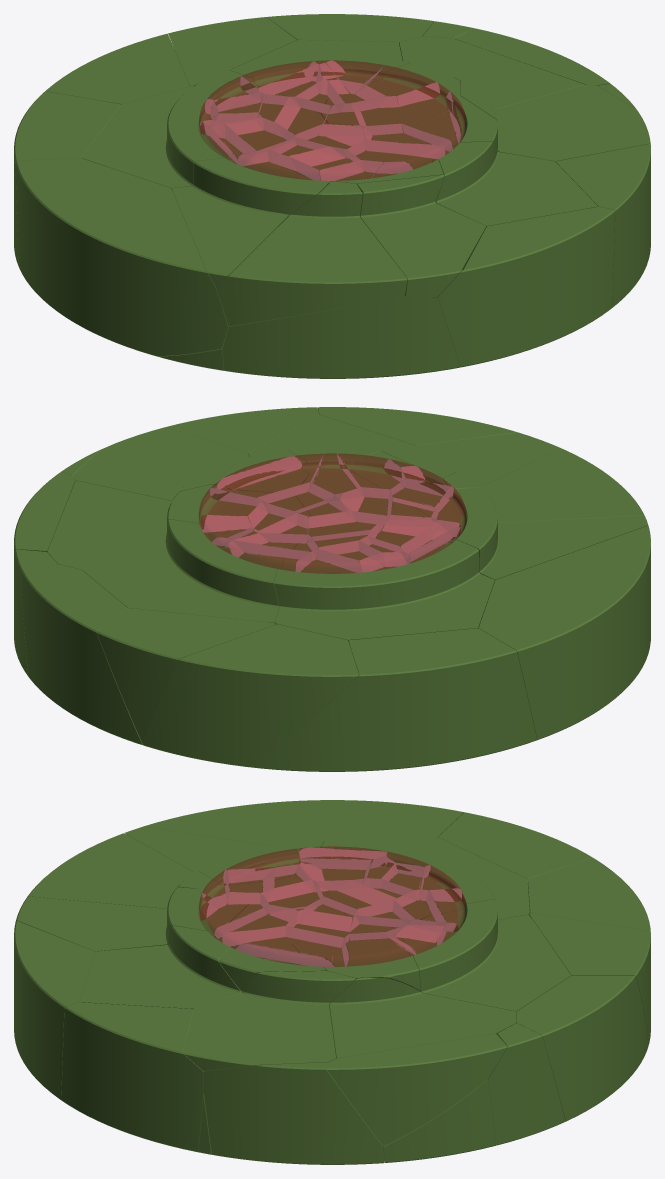
The model's file is MineFragments.gltf.
The picture shows the model from 3 angles, top to bottom: view 1: azimuth 30°, elevation 25°; view 2: azimuth 150°, elevation 25°; view 3: azimuth 270°, elevation 25°; orthographic projection.
Parts seen in each view (by area): view 1: Casing_cell.006, Casing_cell.003, Casing_cell.011, Casing_cell.017, Casing_cell.012, Casing_cell.023, Casing_cell.008, Casing_cell.028, Casing_cell.018, Casing_cell.007, Casing_cell, Casing_cell.022 (+37 smaller); view 2: Casing_cell.015, Casing_cell.006, Casing_cell.022, Casing_cell.012, Casing_cell.020, Casing_cell.010, Casing_cell.004, Casing_cell.023, Casing_cell.011, Casing_cell.028, Casing_cell, Casing_cell.008 (+36 smaller); view 3: Casing_cell.007, Casing_cell.024, Casing_cell.020, Casing_cell.028, Casing_cell.010, Casing_cell.025, Casing_cell.006, Casing_cell, Casing_cell.018, Casing_cell.003, Casing_cell.012, Casing_cell.011 (+38 smaller).
Boxes of the visible parts, left/top/right/bottom form: Casing_cell.006: left=15, top=158, right=228, bottom=355; Casing_cell.003: left=433, top=206, right=615, bottom=367; Casing_cell.011: left=215, top=181, right=407, bottom=326; Casing_cell.017: left=222, top=296, right=460, bottom=378; Casing_cell.012: left=82, top=70, right=327, bottom=190; Casing_cell.023: left=172, top=158, right=329, bottom=284; Casing_cell.008: left=357, top=174, right=486, bottom=296; Casing_cell.028: left=460, top=81, right=650, bottom=161; Casing_cell.018: left=433, top=141, right=597, bottom=226; Casing_cell.007: left=555, top=144, right=650, bottom=307; Casing_cell: left=399, top=36, right=584, bottom=109; Casing_cell.022: left=45, top=33, right=189, bottom=104; Casing_cell.015: left=250, top=628, right=536, bottom=771; Casing_cell.006: left=478, top=526, right=650, bottom=740; Casing_cell.022: left=143, top=624, right=358, bottom=767; Casing_cell.012: left=274, top=528, right=494, bottom=640; Casing_cell.020: left=20, top=564, right=142, bottom=745; Casing_cell.010: left=82, top=519, right=284, bottom=622; Casing_cell.004: left=97, top=608, right=276, bottom=743; Casing_cell.023: left=436, top=487, right=648, bottom=581; Casing_cell.011: left=443, top=448, right=644, bottom=522; Casing_cell.028: left=72, top=427, right=249, bottom=500; Casing_cell: left=47, top=480, right=179, bottom=570; Casing_cell.008: left=381, top=432, right=561, bottom=486; Casing_cell.007: left=61, top=1002, right=204, bottom=1152; Casing_cell.024: left=203, top=1062, right=384, bottom=1164; Casing_cell.020: left=516, top=975, right=648, bottom=1121; Casing_cell.028: left=183, top=971, right=355, bottom=1071; Casing_cell.010: left=402, top=899, right=571, bottom=1018; Casing_cell.025: left=326, top=1033, right=506, bottom=1146; Casing_cell.006: left=143, top=800, right=463, bottom=845; Casing_cell: left=329, top=977, right=516, bottom=1058; Casing_cell.018: left=80, top=925, right=241, bottom=1009; Casing_cell.003: left=14, top=920, right=94, bottom=1100; Casing_cell.012: left=316, top=837, right=529, bottom=919; Casing_cell.011: left=27, top=833, right=220, bottom=908.
Bounding box in the file's own units: 2.42 × 0.5426 × 2.42.
